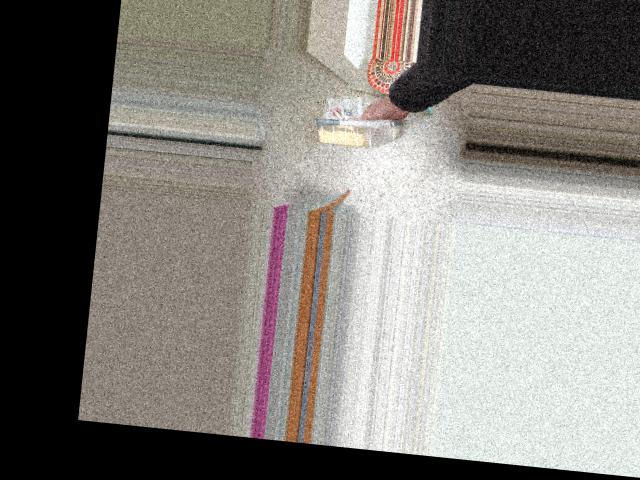cheese: (311, 93, 403, 161)
